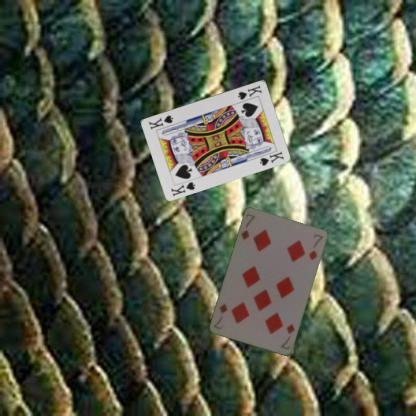7d: (238, 212, 257, 242), (278, 322, 296, 352)
Ks: (235, 82, 264, 101), (168, 179, 197, 197)
